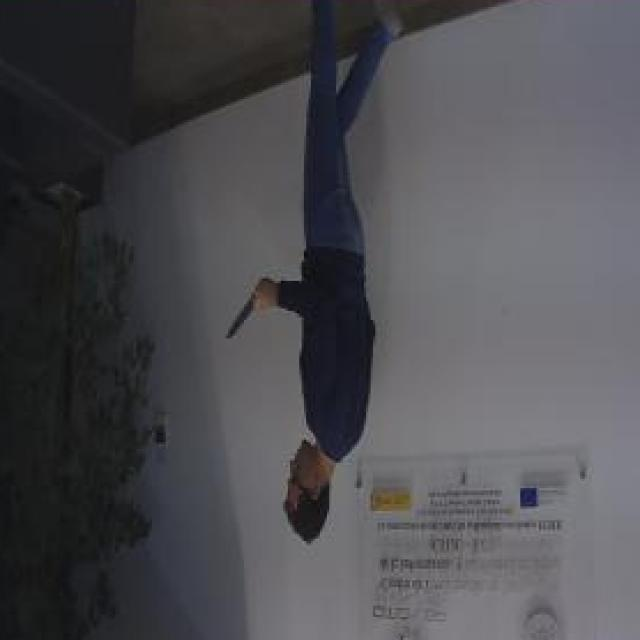knife: (223, 281, 264, 341)
